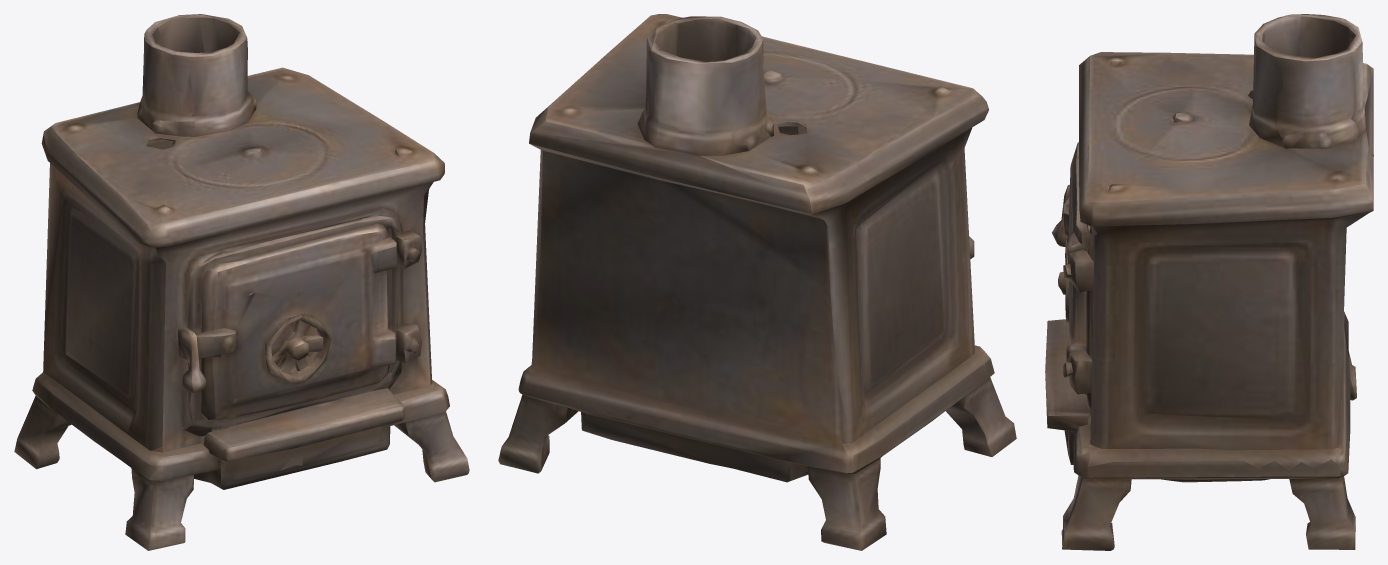
3 renders of one model, left to right at view 1: azimuth 30°, elevation 25°; view 2: azimuth 150°, elevation 25°; view 3: azimuth 270°, elevation 25°, orthographic. The views are drawn at different scales.
Visible parts, largest first — view 1: geometry_0; view 2: geometry_0; view 3: geometry_0.
Part boxes in pixels (bbox=[...]): geometry_0: bbox=[14, 14, 469, 550]; geometry_0: bbox=[498, 14, 1016, 550]; geometry_0: bbox=[1045, 14, 1373, 550].
Bounding box in the file's own units: 0.5111 × 0.5992 × 0.4143.
1 material, 1 textured.
